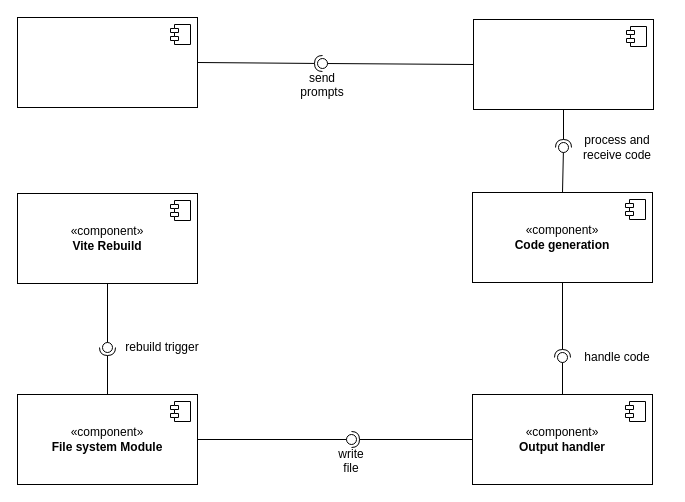
This 685x502 diagram has some shape labels left out. Each missing label, with the centre of its shape:
«component» API Integration: point (563, 64)
«component» Prompt processor: point (107, 62)
